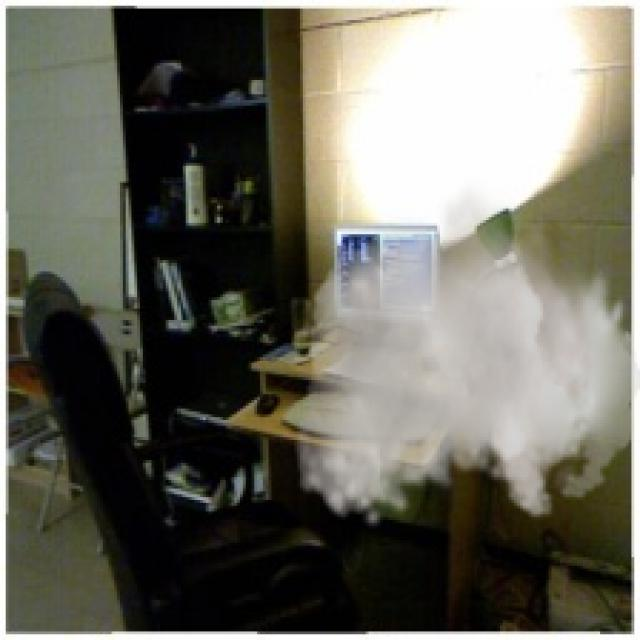smoke: (294, 175, 637, 534)
